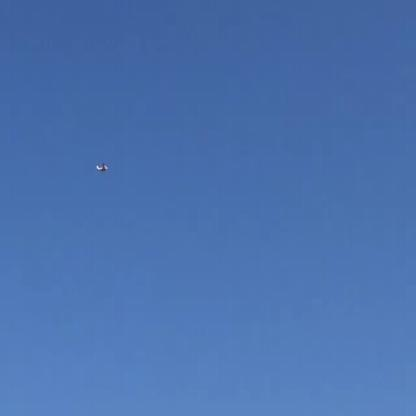CIV_Plane: (96, 164, 108, 173)
